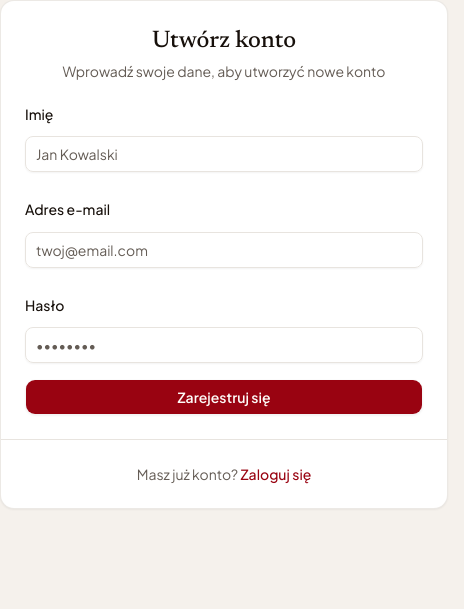
Test case: app/register/_components/Register › displays alert with error message when API responds with 409 conflict
Step 1. Type "Krzysztof Kowal" into the field labelled "Imię" → (224, 154), box [25, 136, 423, 172]
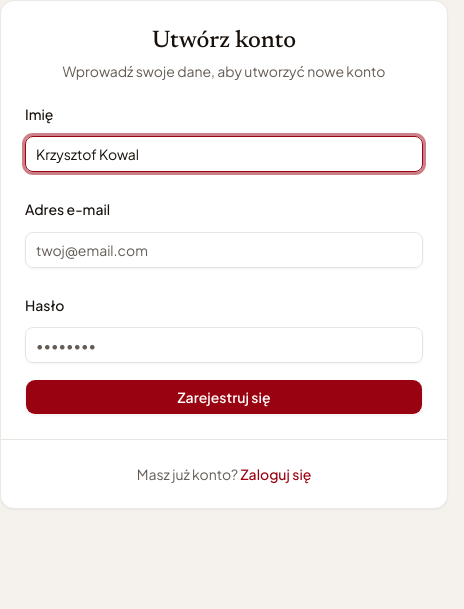
Step 2. Type "zajety@test.pl" into the field labelled "Adres e-mail" → (224, 250), box [25, 232, 423, 268]
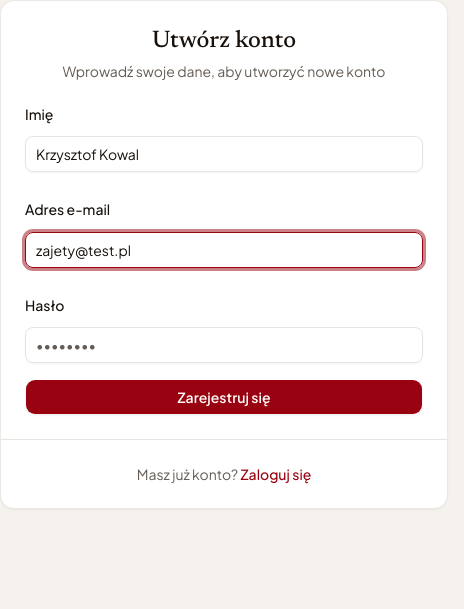
Step 3. Type "bezpiecznehaslo1" into the password field labelled "Hasło" → (224, 345), box [25, 327, 423, 363]
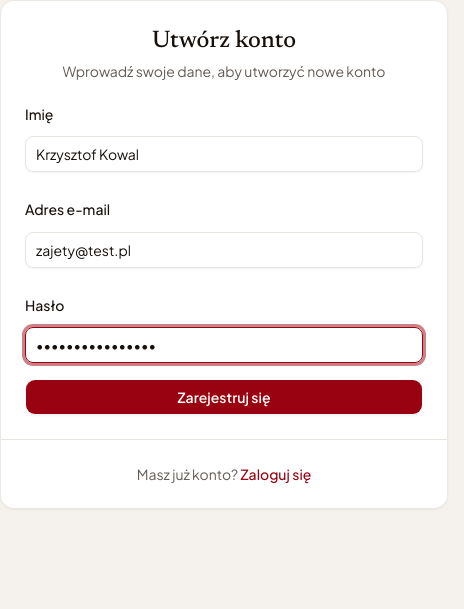
Step 4. Click the button "Zarejestruj się" → (224, 397), box [25, 379, 423, 415]
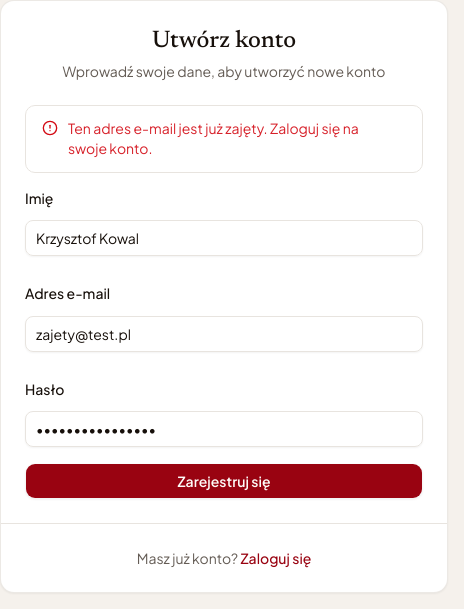
Expected: the message "Ten adres e-mail jest już zajęty. Zaloguj się na swoje konto." is shown, [25, 105, 423, 173]
Expected: the text "Ten adres e-mail jest już zajęty. Zaloguj się na swoje konto." is shown, [68, 118, 406, 158]
